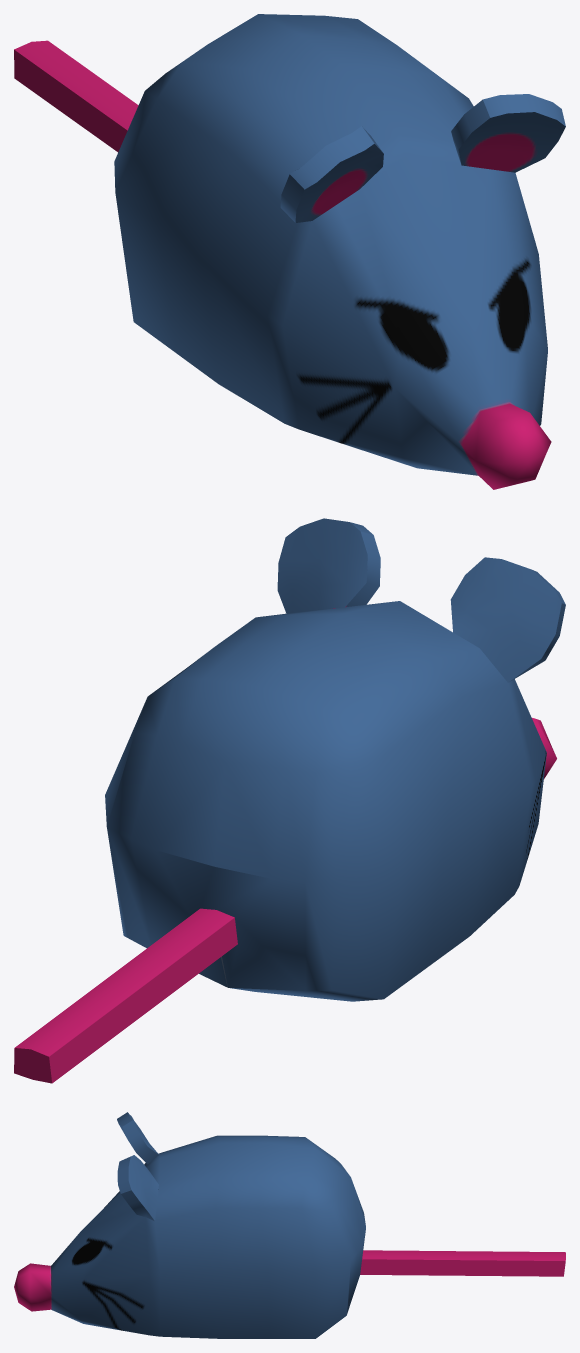
The model's file is mouse.obj.
3 renders of one model, top to bottom at view 1: azimuth 30°, elevation 25°; view 2: azimuth 150°, elevation 25°; view 3: azimuth 270°, elevation 25°, orthographic. The views are drawn at different scales.
Parts seen in each view (by area): view 1: pCube4; view 2: pCube4; view 3: pCube4.
Part boxes in pixels (bbox=[...]): pCube4: bbox=[14, 14, 565, 489]; pCube4: bbox=[14, 518, 565, 1083]; pCube4: bbox=[14, 1112, 565, 1338].
Bounding box in the file's own units: 0.8661 × 0.9068 × 2.54.
1 material, 1 textured.
